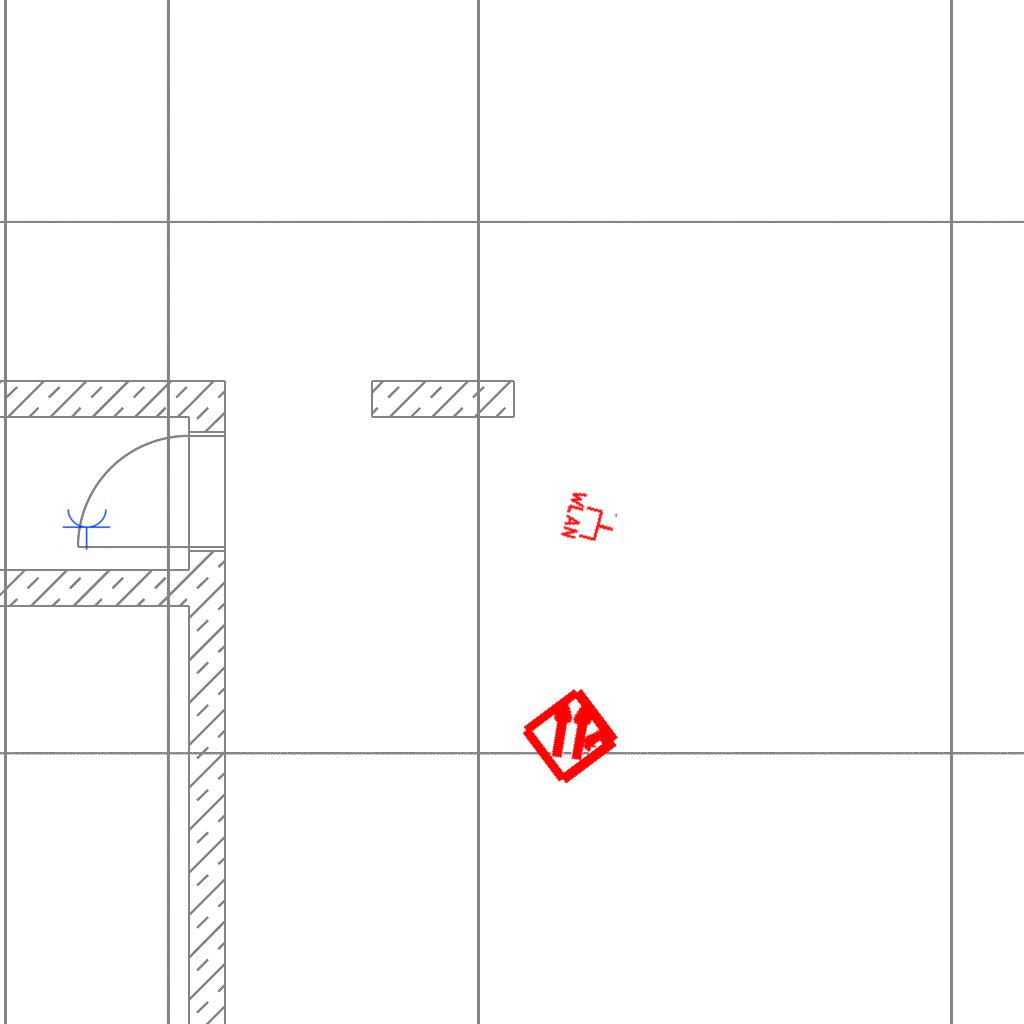OT_Multisensormelder_(Kombination_RMO_WMD): (493, 655, 652, 814)
Schukosteckdose_einfach: (62, 507, 112, 550)
WLAN: (559, 487, 623, 551)
